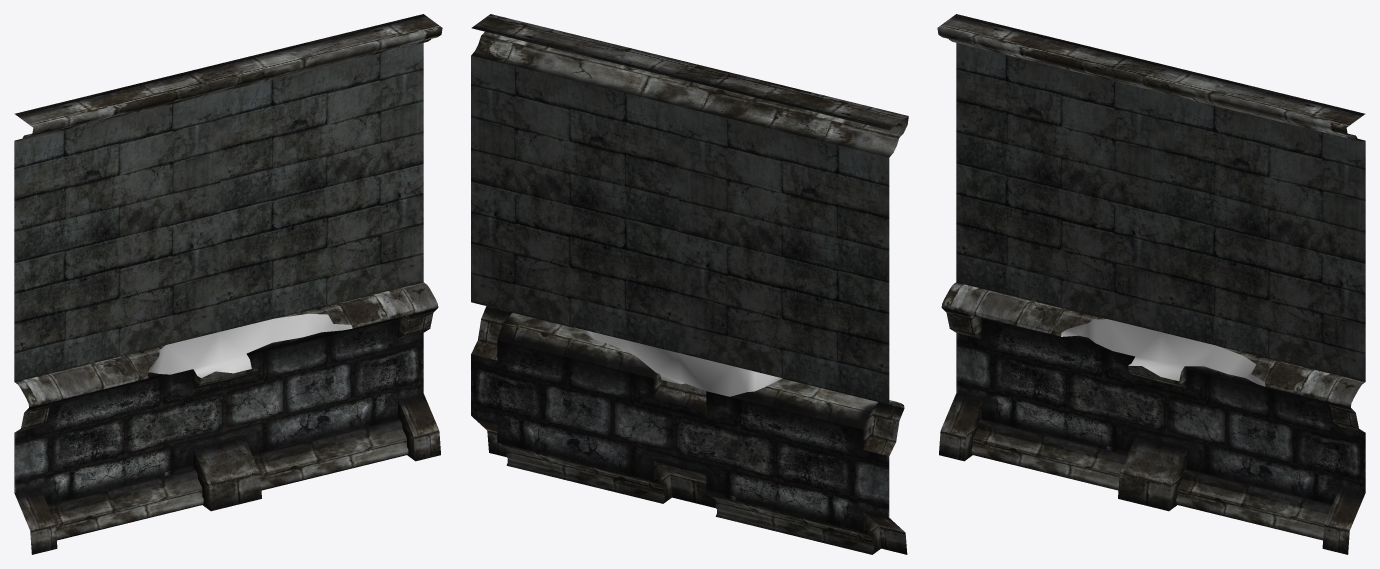
Rendered from default_broken01_alt.dae.
3 renders of one model, left to right at view 1: azimuth 30°, elevation 25°; view 2: azimuth 150°, elevation 25°; view 3: azimuth 330°, elevation 25°, orthographic. The views are drawn at different scales.
Parts seen in each view (by area): view 1: polySurface134, polySurface133; view 2: polySurface134, polySurface133; view 3: polySurface134, polySurface133.
Boxes of the visible parts, left/top/right/bottom form: polySurface134: left=14, top=14, right=442, bottom=554; polySurface133: left=148, top=313, right=352, bottom=377; polySurface134: left=471, top=14, right=908, bottom=554; polySurface133: left=573, top=327, right=781, bottom=396; polySurface134: left=937, top=14, right=1365, bottom=554; polySurface133: left=1061, top=319, right=1265, bottom=386.
Size of what is drawn, in the model's own units: 4 by 4 by 0.3219.
